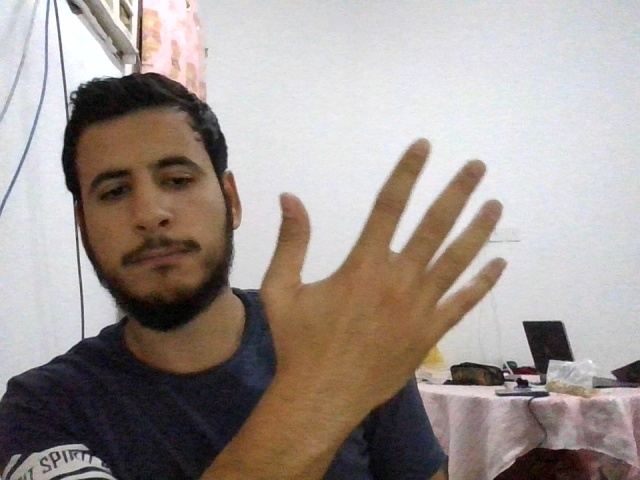Five: (260, 138, 507, 394)
